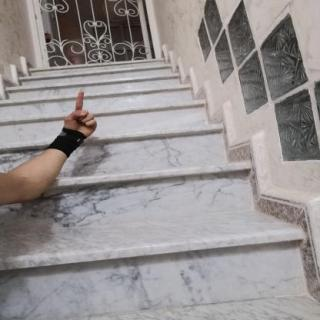BAA: (55, 86, 102, 145)
